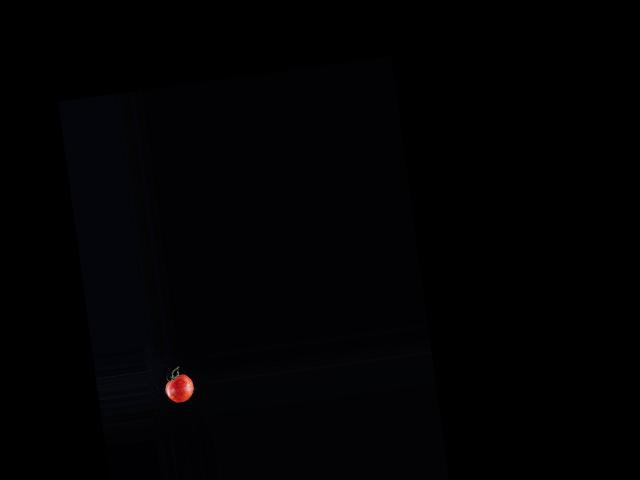tomato: (164, 372, 195, 404)
